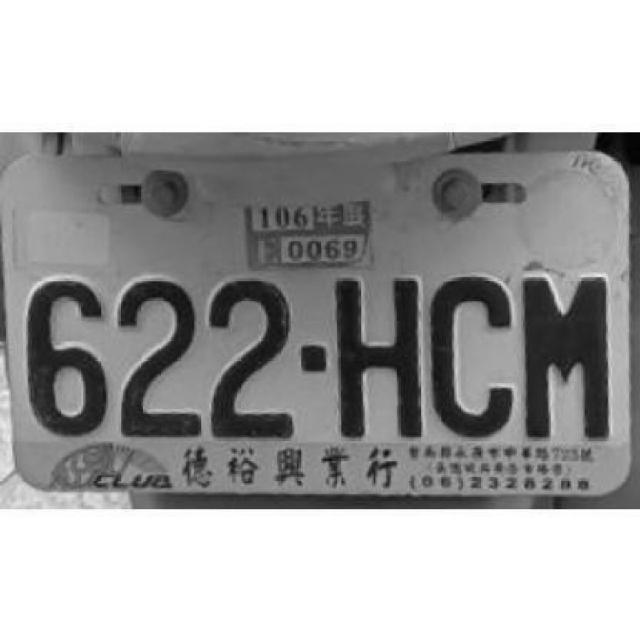-: (302, 344, 326, 370)
2: (205, 274, 297, 440), (112, 274, 200, 438)
6: (23, 275, 106, 437)
C: (431, 272, 517, 438)
H: (324, 263, 424, 437)
M: (522, 274, 610, 440)
